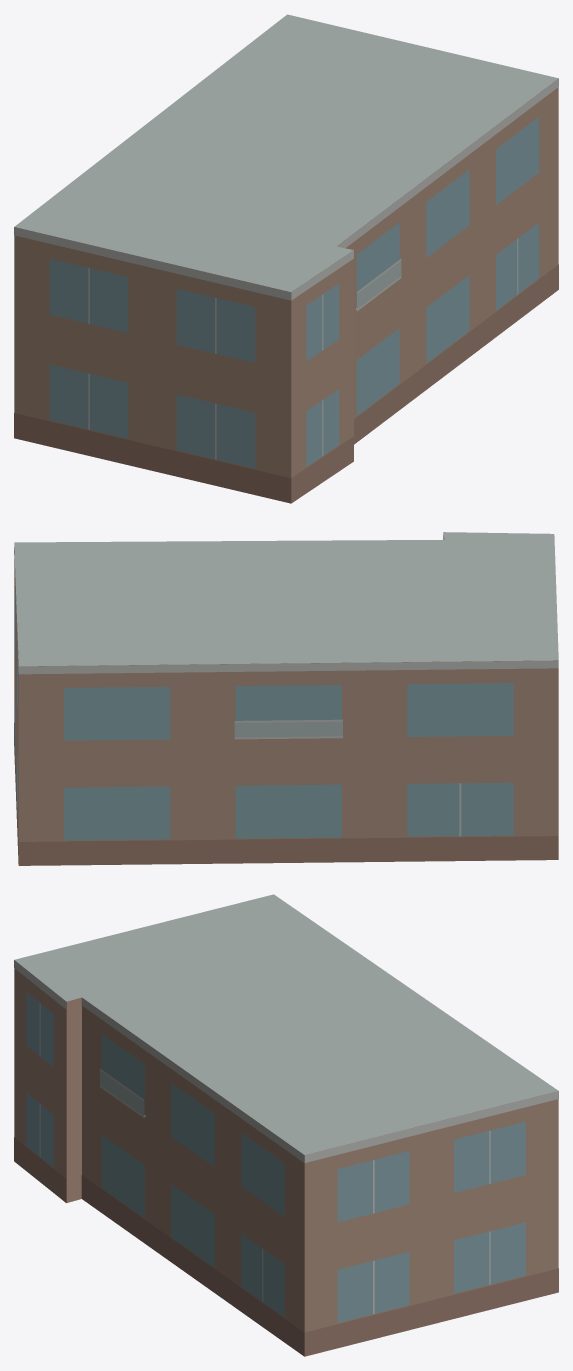
File: survey-upis-32765377.glb
The picture shows the model from 3 angles, top to bottom: view 1: azimuth 30°, elevation 25°; view 2: azimuth 150°, elevation 25°; view 3: azimuth 270°, elevation 25°; orthographic projection. The views are drawn at different scales.
Parts seen in each view (by area): view 1: survey-upis-32765377.tmp; view 2: survey-upis-32765377.tmp; view 3: survey-upis-32765377.tmp.
Part boxes in pixels (bbox=[...]): survey-upis-32765377.tmp: bbox=[14, 14, 558, 503]; survey-upis-32765377.tmp: bbox=[14, 532, 558, 865]; survey-upis-32765377.tmp: bbox=[14, 894, 558, 1356].
Size of the model in its own units: 16.95 by 6.1 by 14.96.
